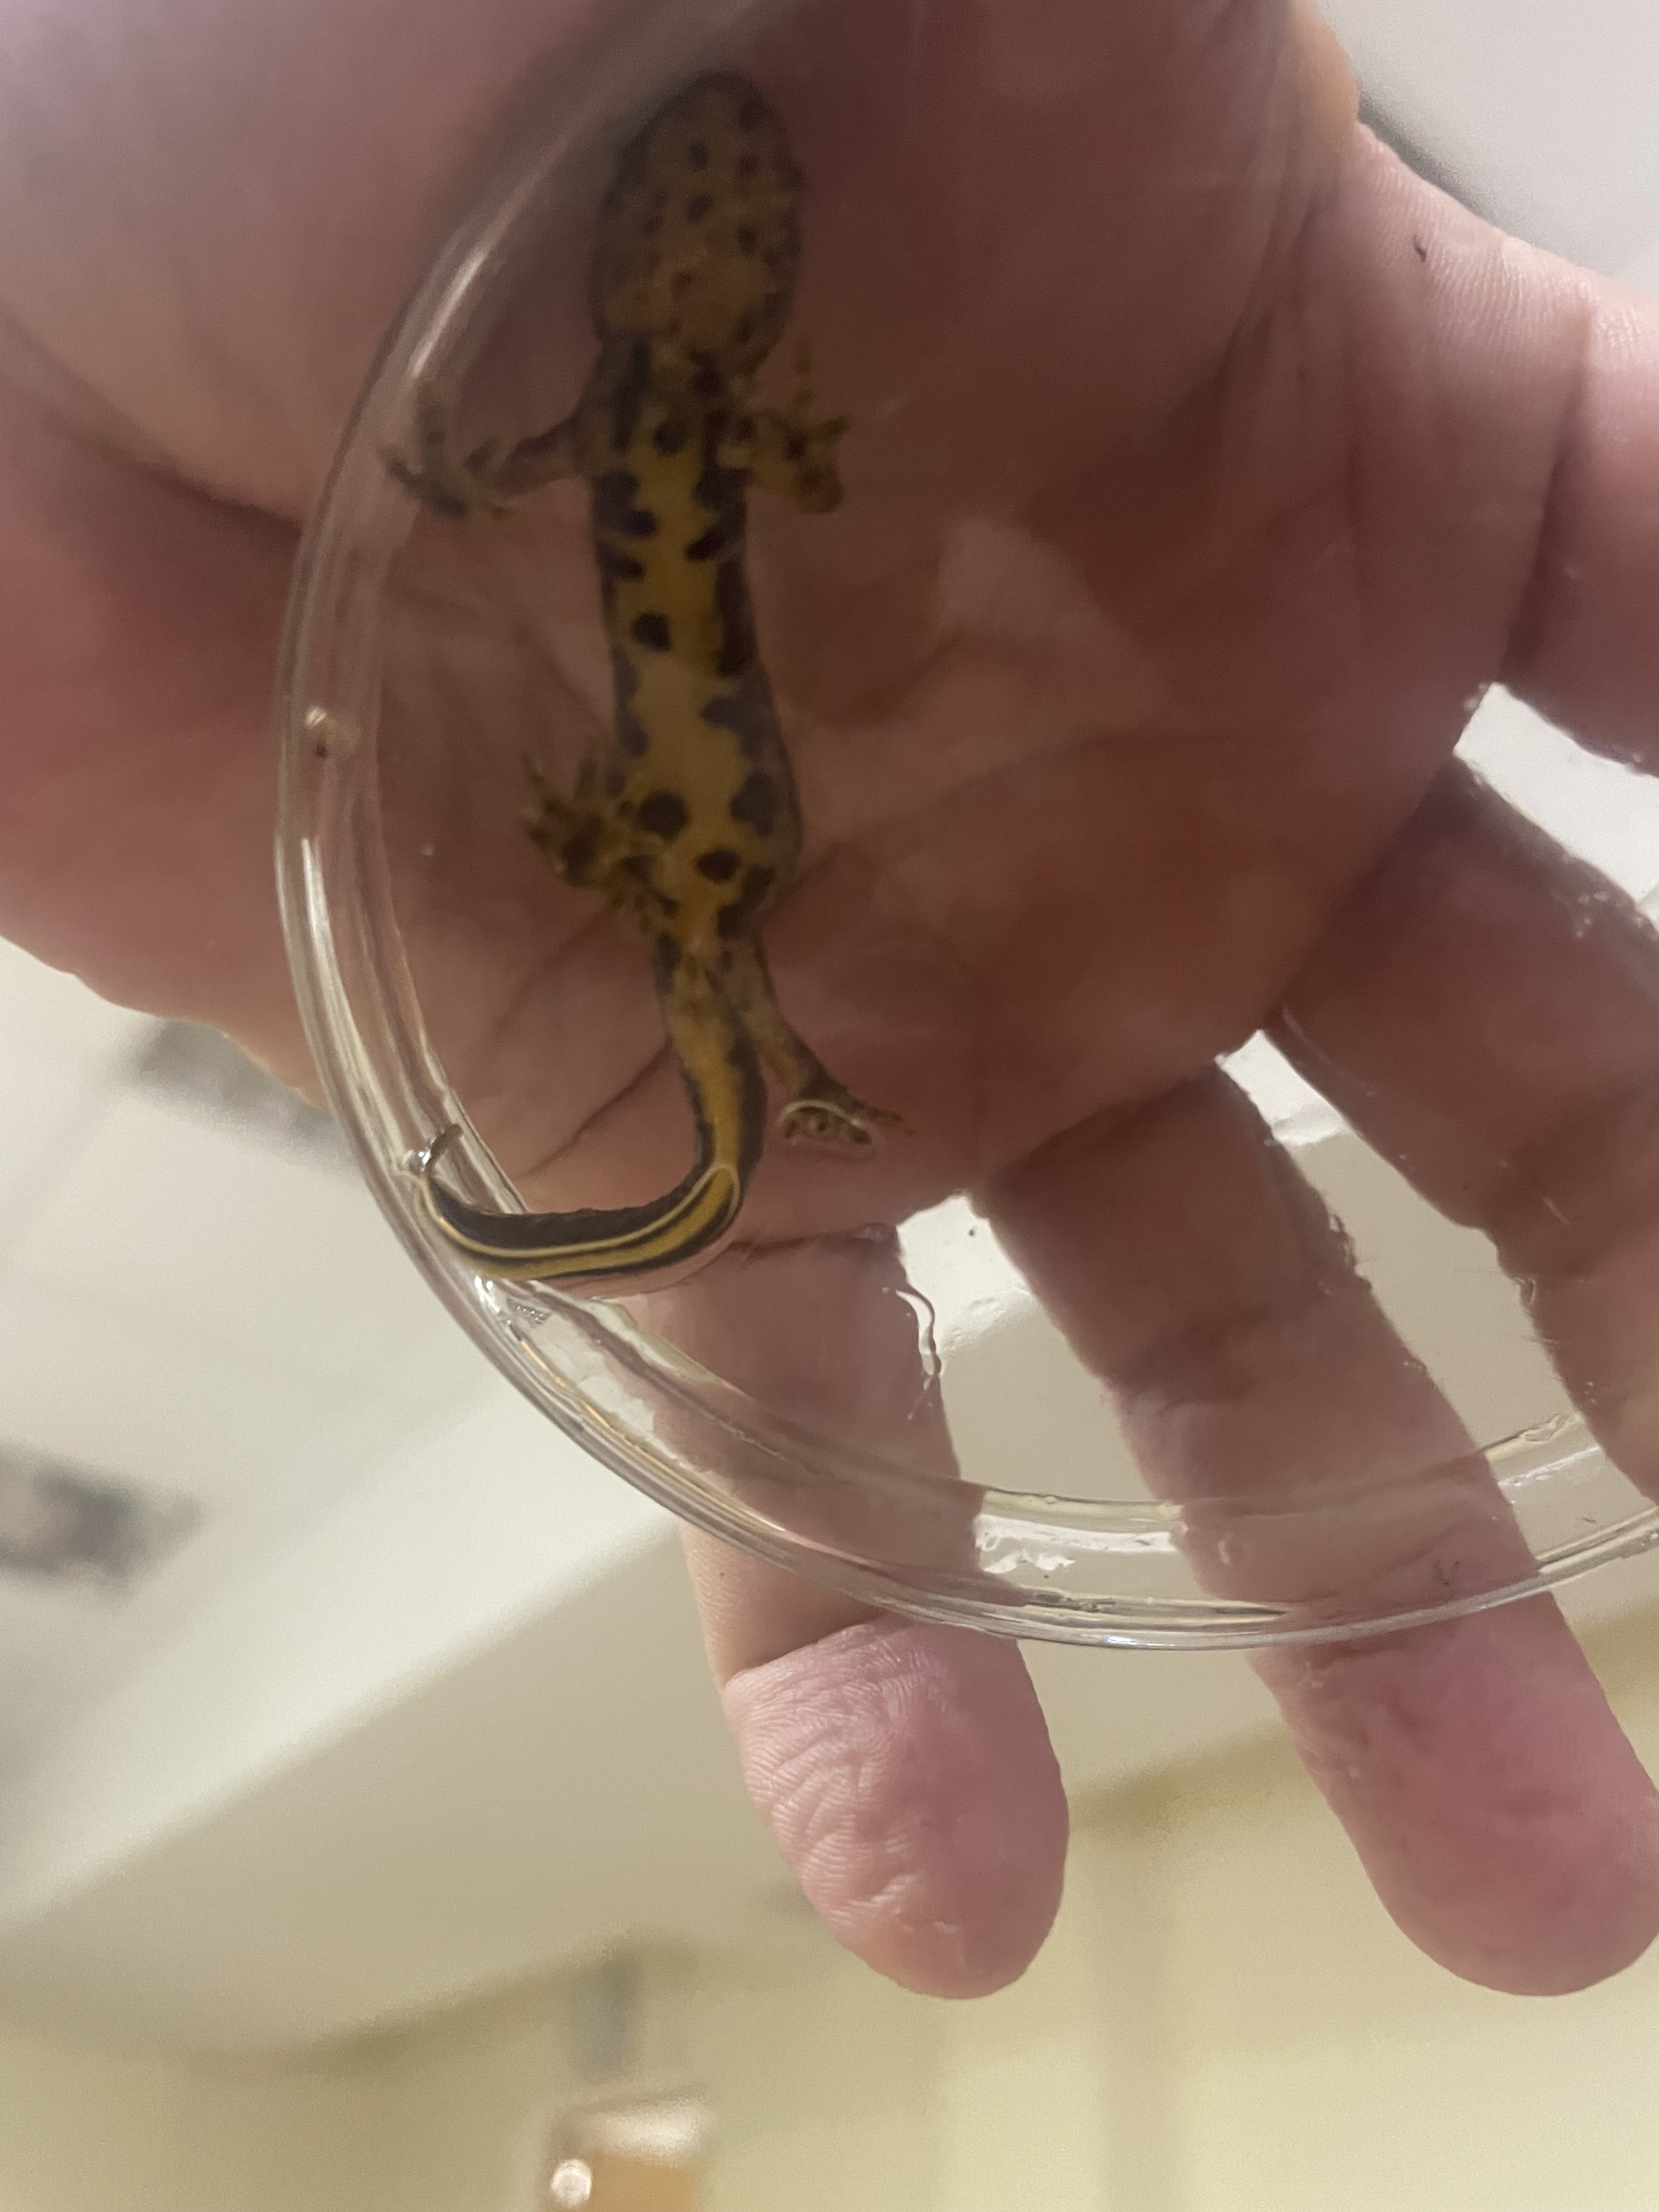Karelin_newt: (586, 474, 802, 921)
